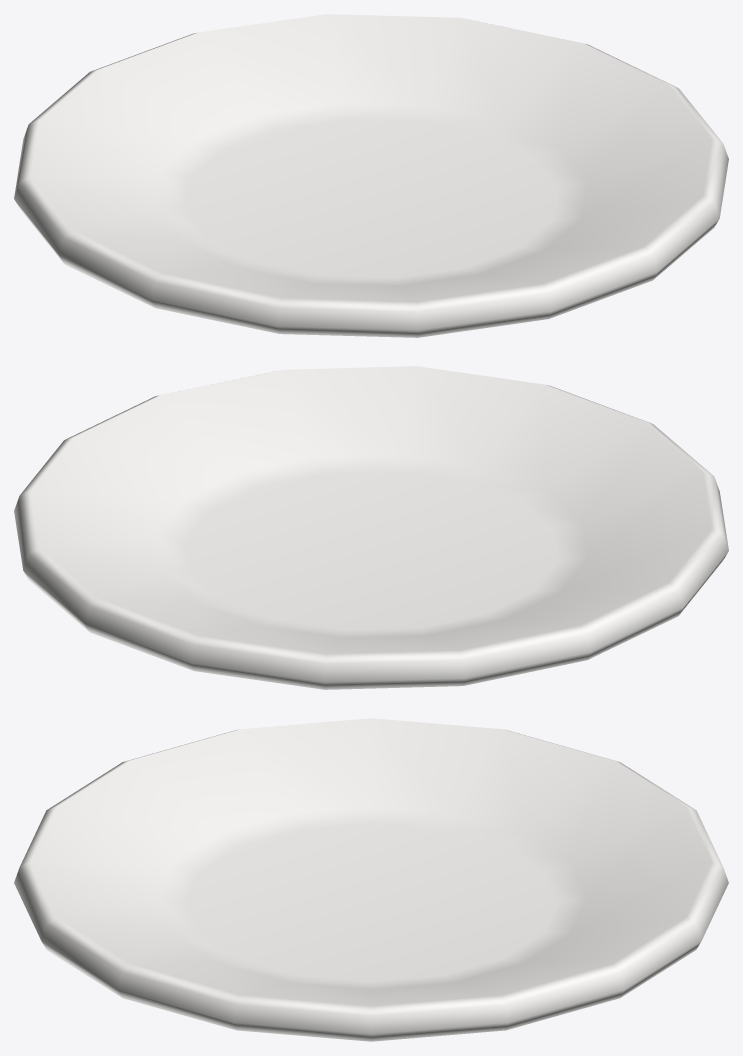
The model's file is Plate_7.glb.
The picture shows the model from 3 angles, top to bottom: view 1: azimuth 30°, elevation 25°; view 2: azimuth 150°, elevation 25°; view 3: azimuth 270°, elevation 25°; orthographic projection.
Parts seen in each view (by area): view 1: Plate_7; view 2: Plate_7; view 3: Plate_7.
Part boxes in pixels (x1=…): Plate_7: x1=14, y1=14, x2=728, y2=337; Plate_7: x1=14, y1=366, x2=728, y2=689; Plate_7: x1=14, y1=718, x2=728, y2=1041.
Size of the model in its own units: 0.3578 by 0.0404 by 0.3578.
1 material, 1 textured.
